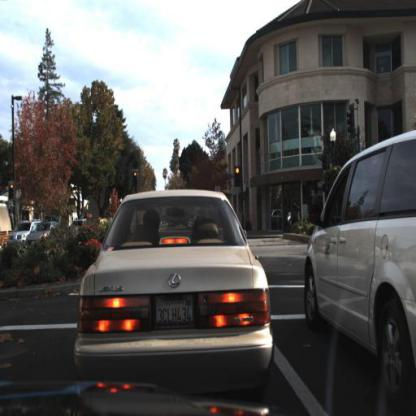car: (72, 186, 275, 388), (302, 127, 416, 385), (26, 222, 63, 254)
trafficLight-Red: (9, 183, 16, 203), (133, 170, 140, 189), (236, 167, 242, 189)
